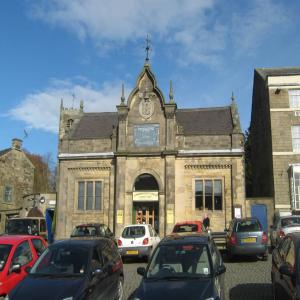Vehicle-registration-plate: (243, 239, 257, 243), (128, 252, 138, 255)
